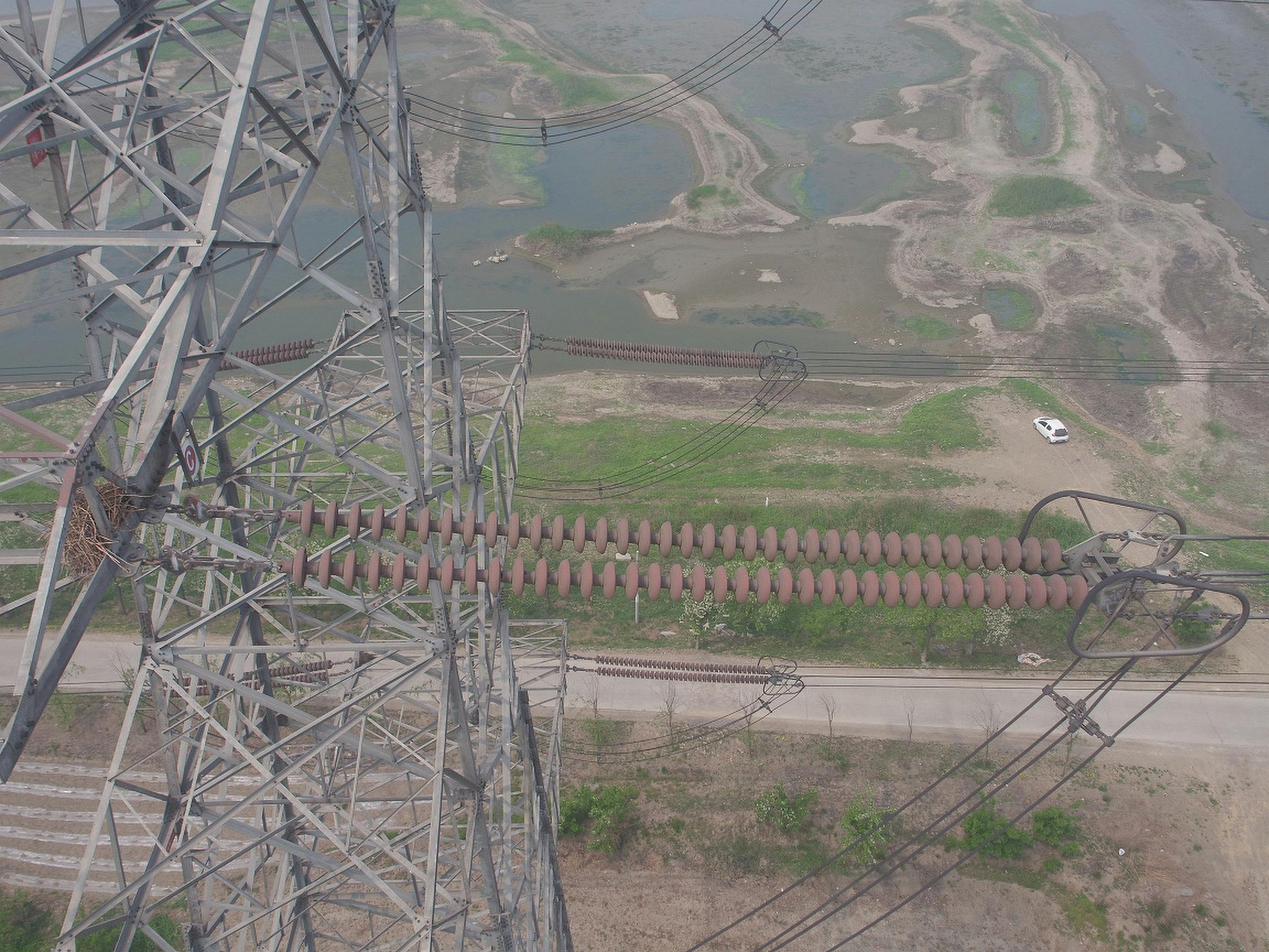insulator: (285, 494, 1094, 617), (562, 332, 769, 372), (158, 658, 334, 700), (594, 653, 770, 686), (213, 336, 316, 374)
